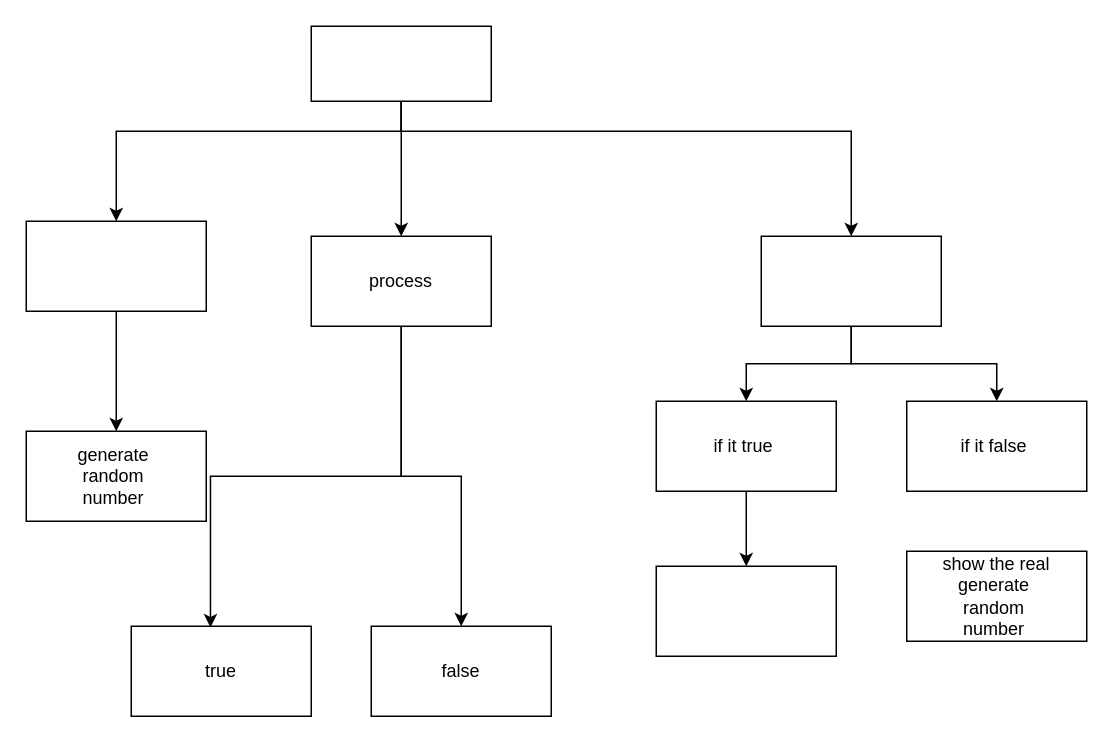
Image size: 1113x743. Some labels were removed from this diagram. Here are the shapes that lost their labels. From the top down, the centre of each, then its label:
At point 400,63: "guessing game".
At point 115,265: "input".
At point 850,280: "output".
At point 745,610: "break".
